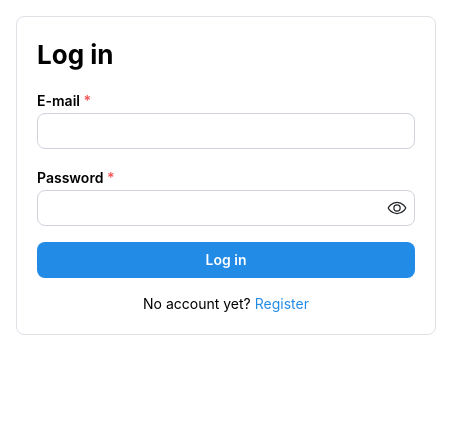
LoginPage › shows the translated message for a wrong password
The image size is (453, 424).
Type "amra@example.com" into the field labelled "E-mail *" at (226, 131), box [37,113,415,149]
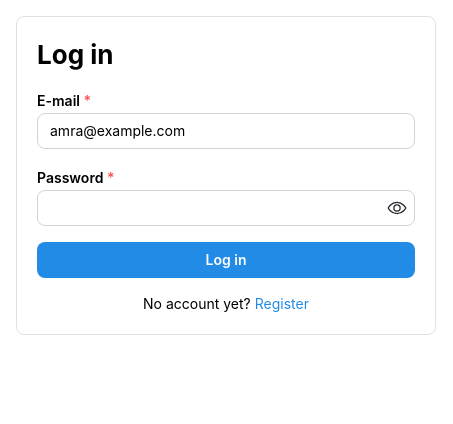
Type "wrong" into the password field labelled "Password *" at (226, 208), box [38,191,414,225]
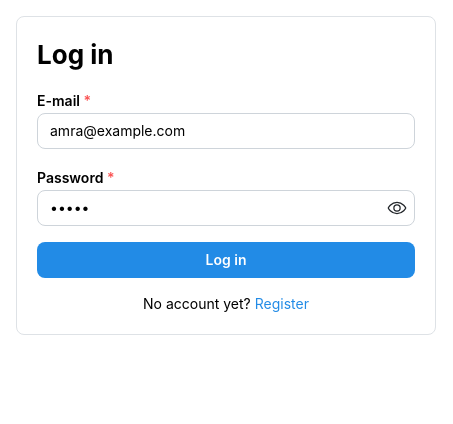
Click the button "Log in" at (226, 260), box [37,242,415,278]
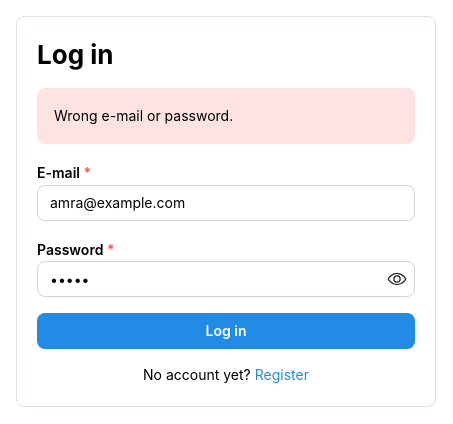
Expected: the message reads "Wrong e-mail or password.", [54,107,233,124]
